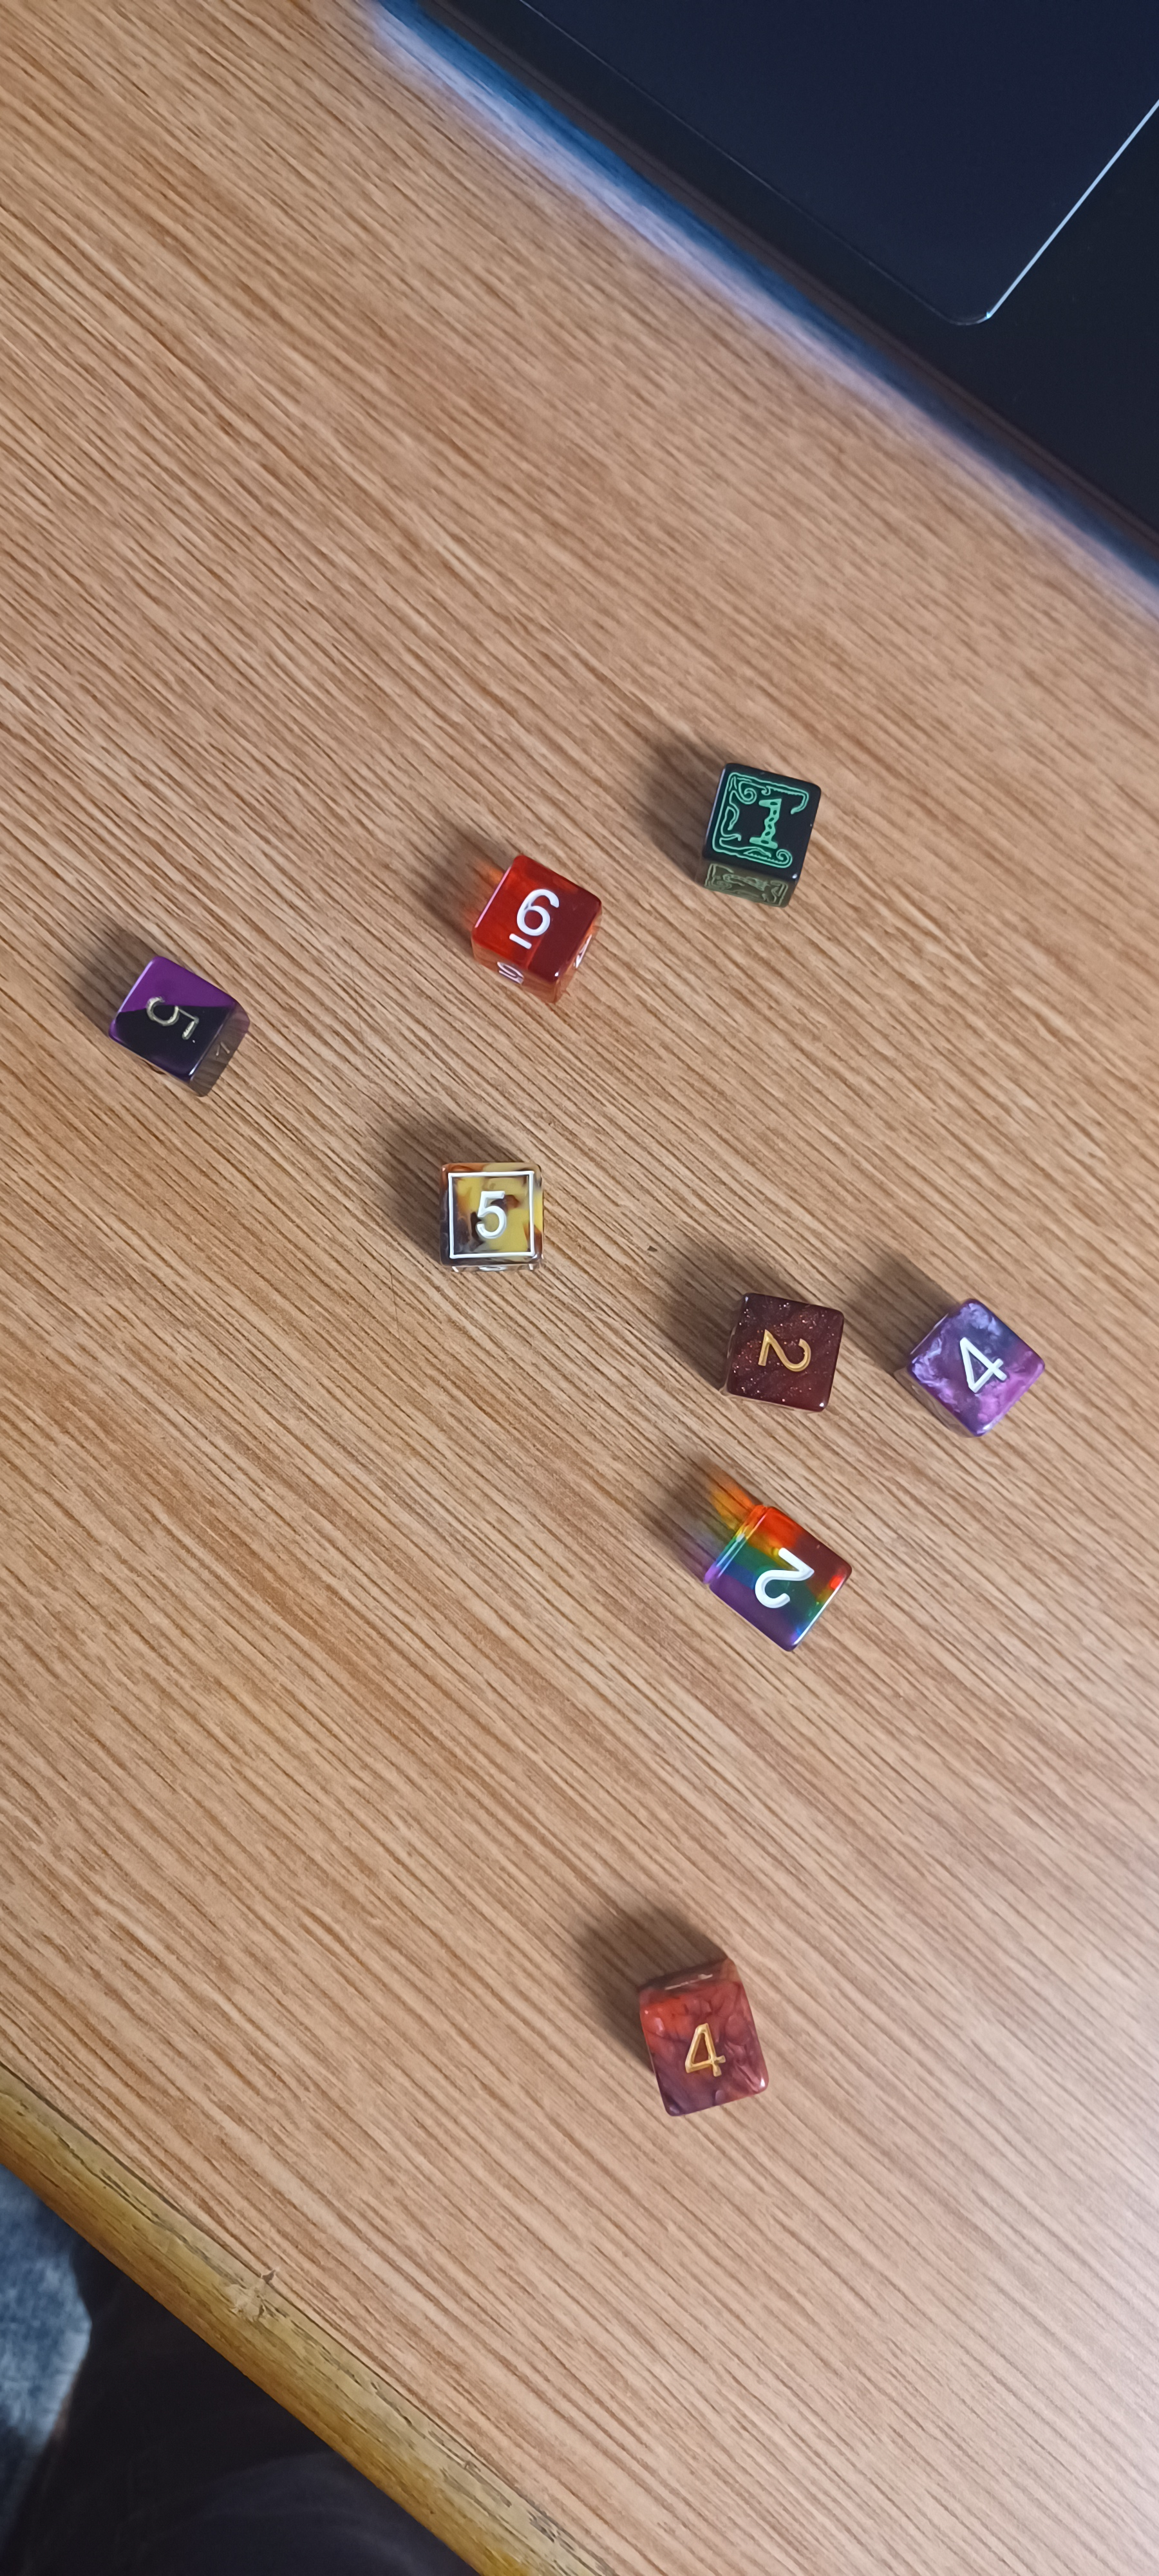five: (62, 923, 289, 1130), (399, 1119, 583, 1299)
four: (586, 1924, 809, 2144), (855, 1270, 1074, 1470)
one: (665, 724, 857, 935)
six: (432, 831, 630, 1010)
two: (658, 1470, 896, 1676), (693, 1244, 867, 1433)
